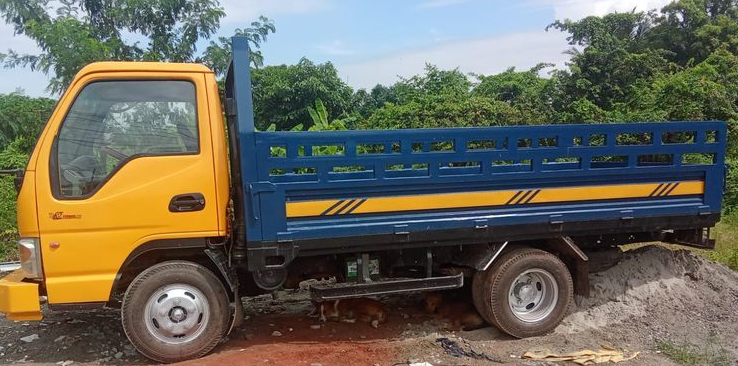Truck: (8, 34, 728, 361)
